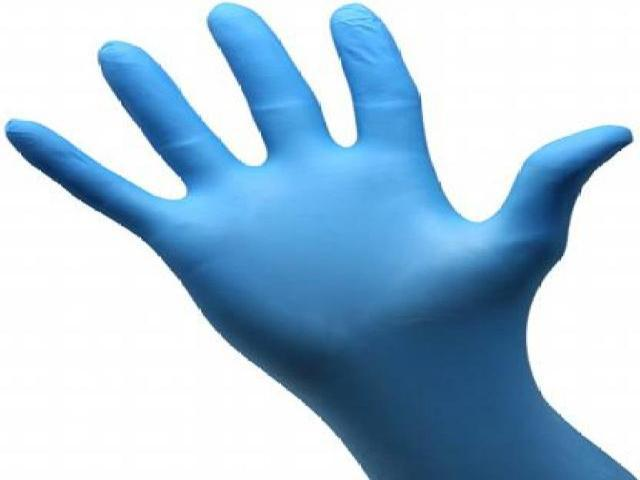Hand-in-Glove: (0, 4, 629, 476)
